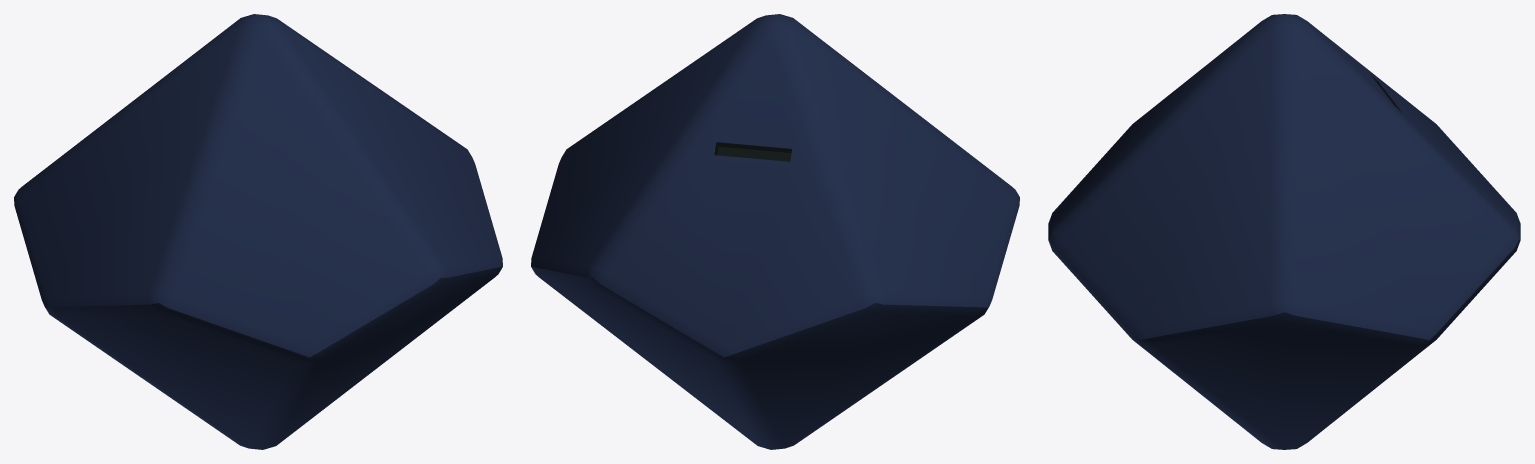
Rendered from tithe_d10.glb.
3 renders of one model, left to right at view 1: azimuth 30°, elevation 25°; view 2: azimuth 150°, elevation 25°; view 3: azimuth 270°, elevation 25°, orthographic.
Visible parts, largest first — view 1: TitheD10; view 2: TitheD10; view 3: TitheD10.
Boxes of the visible parts, left/top/right/bottom form: TitheD10: left=14, top=14, right=502, bottom=449; TitheD10: left=531, top=14, right=1019, bottom=449; TitheD10: left=1048, top=14, right=1520, bottom=449.
Bounding box in the file's own units: 0.0991 × 0.0966 × 0.095.
